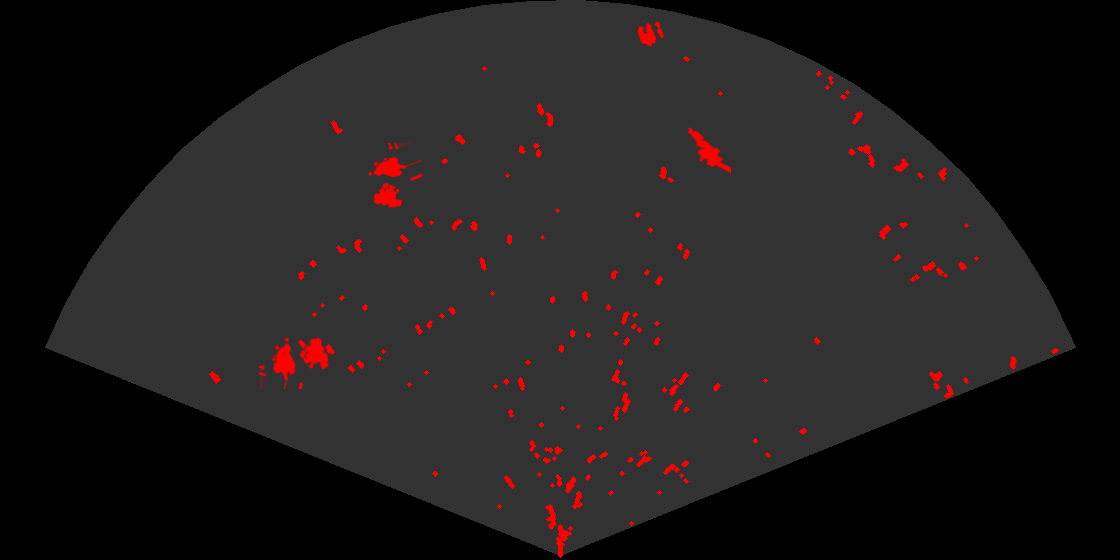ball: (636, 20, 666, 48)
cage: (259, 335, 331, 389), (367, 143, 422, 209)
frogman: (677, 123, 731, 174)
